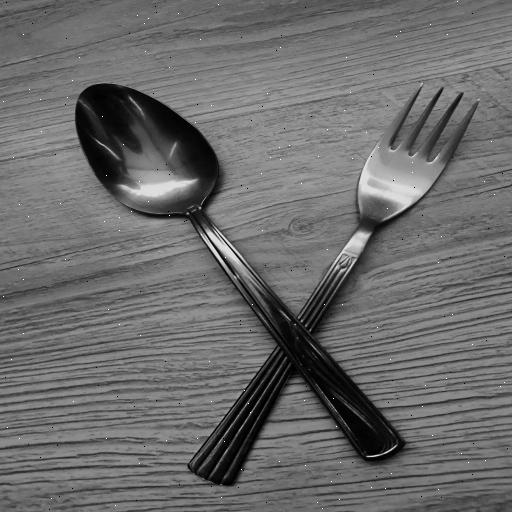fork: (184, 77, 473, 487)
spoon: (73, 78, 401, 460)
